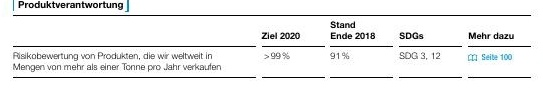table: (0, 0, 543, 91)
